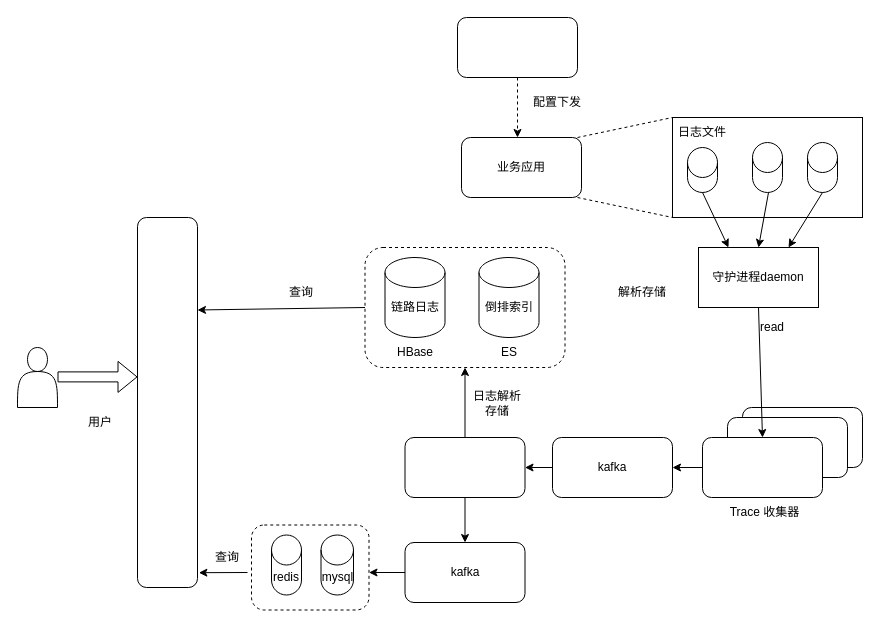
Some shapes in this 880 by 628 pixel diagram are drawn without their labels. Here are the shapes that lost their labels. From the top down, the centre of each, then its label:
point 517,47: Config
point 167,402: Web
point 464,467: Consumer
point 762,467: Collectors
